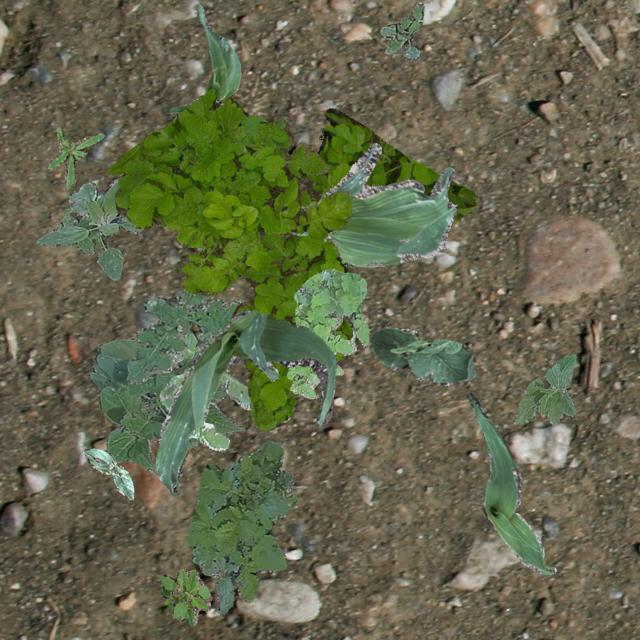crop: (154, 310, 336, 494), (88, 338, 242, 472), (290, 142, 456, 266), (466, 392, 554, 574), (35, 178, 142, 280), (168, 3, 240, 118), (370, 326, 474, 386), (514, 352, 574, 424), (82, 448, 132, 498)
weed: (230, 108, 476, 430), (107, 87, 350, 296), (186, 440, 296, 614), (126, 244, 246, 384), (148, 320, 250, 450), (286, 266, 368, 398), (46, 126, 104, 188), (158, 568, 212, 626), (379, 1, 424, 59)
